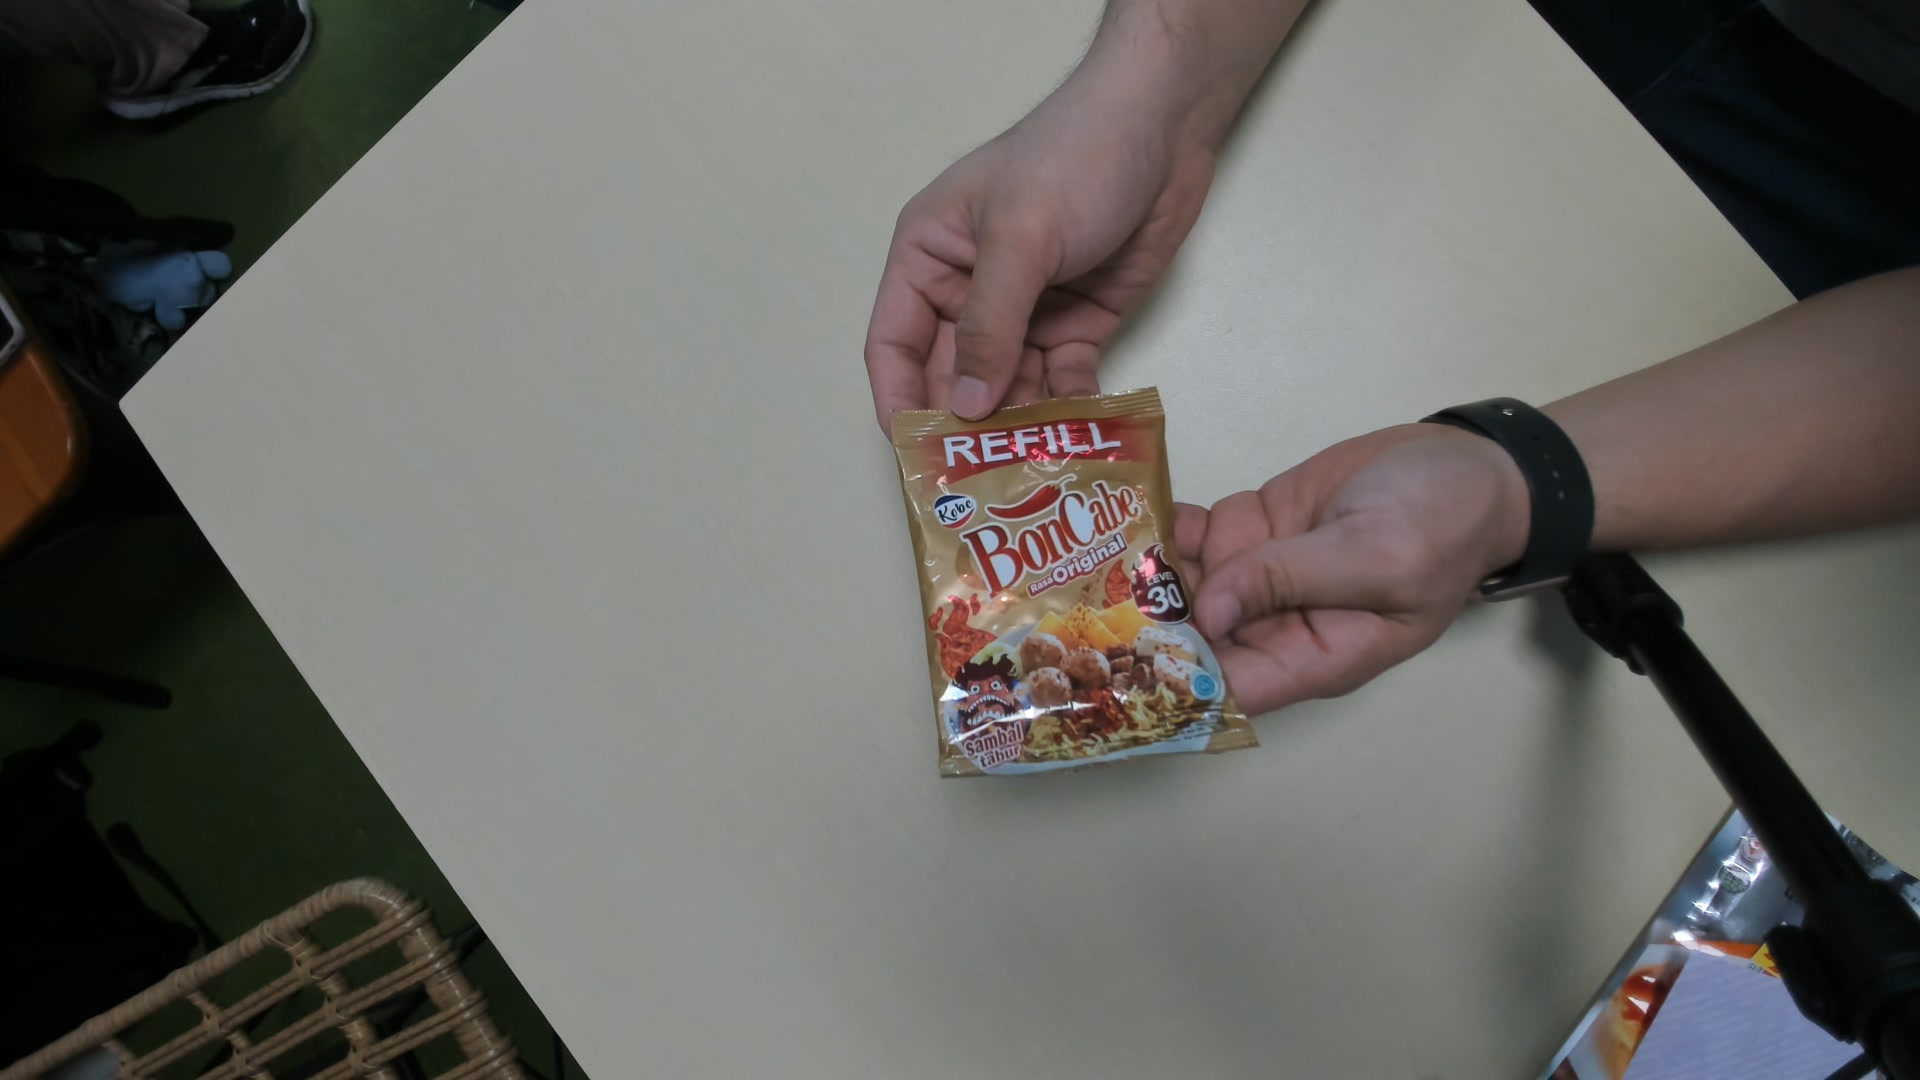CurryPastePowderSauce_0-99g_Halal_NonHealthy: (894, 394, 1259, 782)
